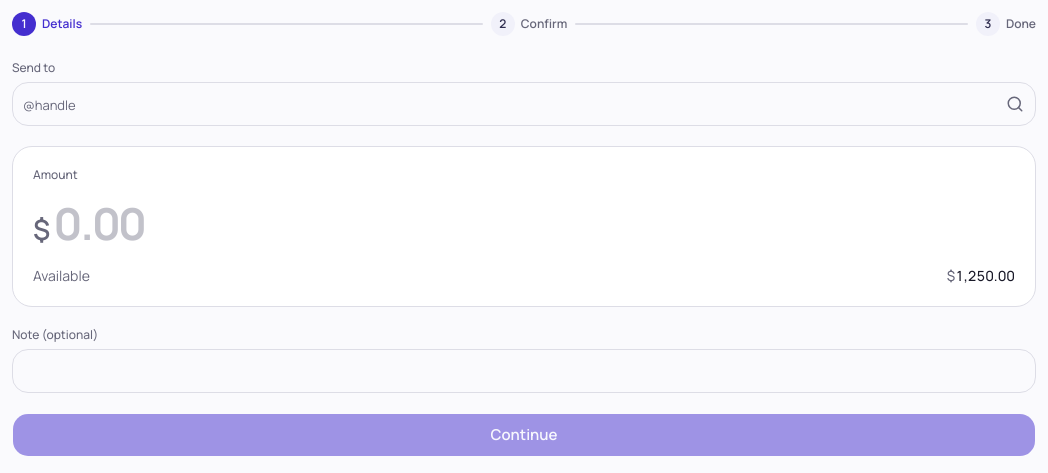
Scenario: SendMoneyWizard › says when nobody has that handle
Type "ghost" into the dropdown labelled "Send to" at (524, 104), box [12,82,1036,126]
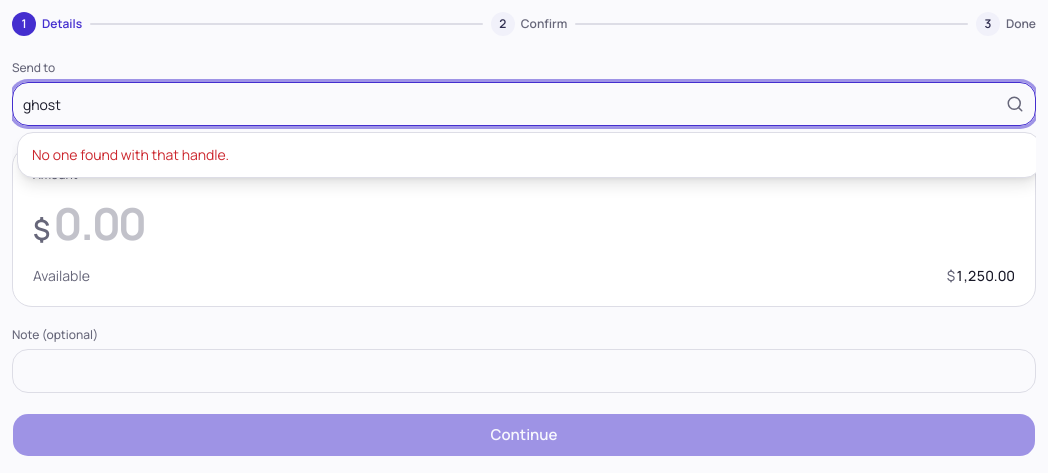
Result: the text "No one found with that handle." is shown at [32,145,229,164]
